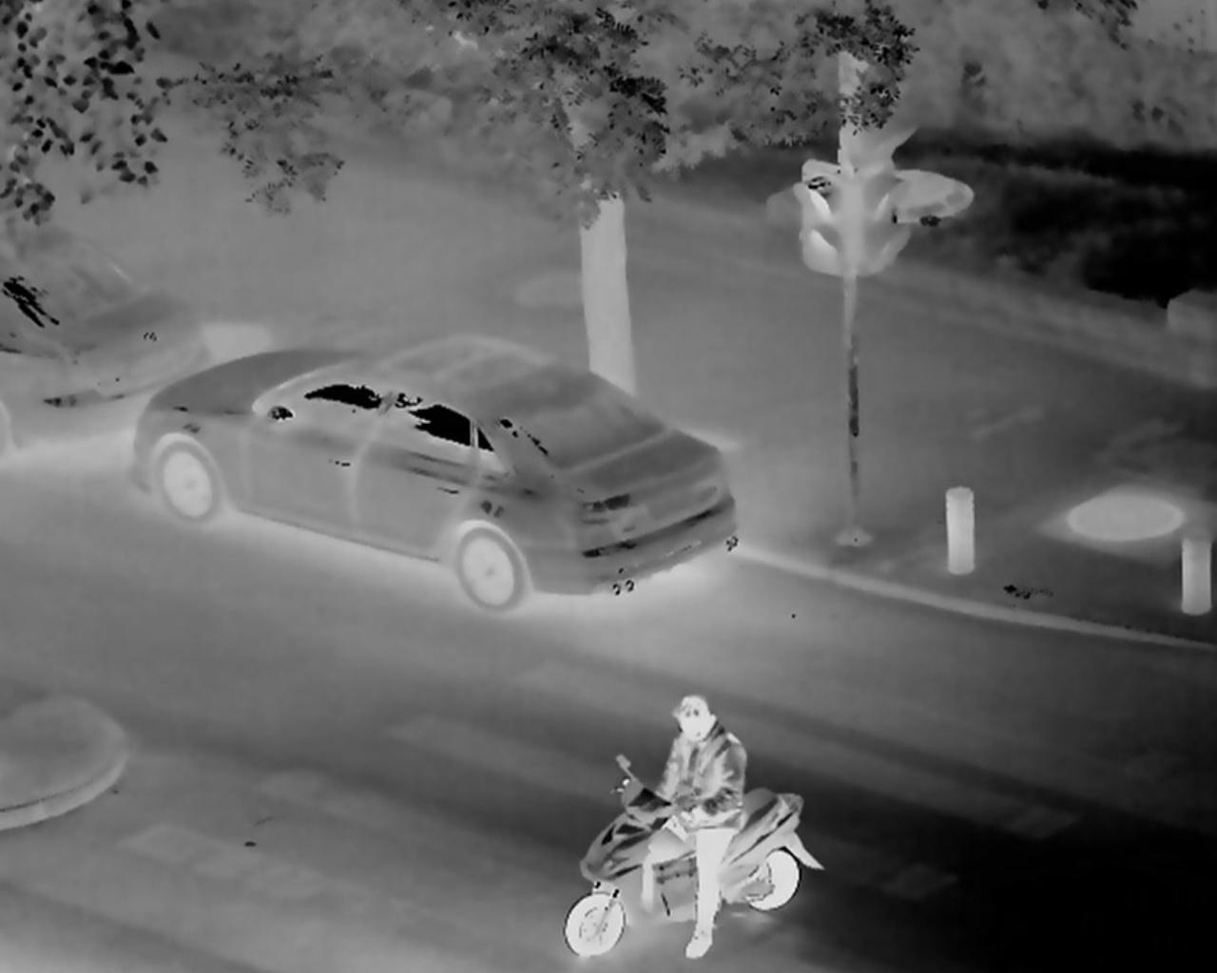person: (630, 688, 769, 966)
